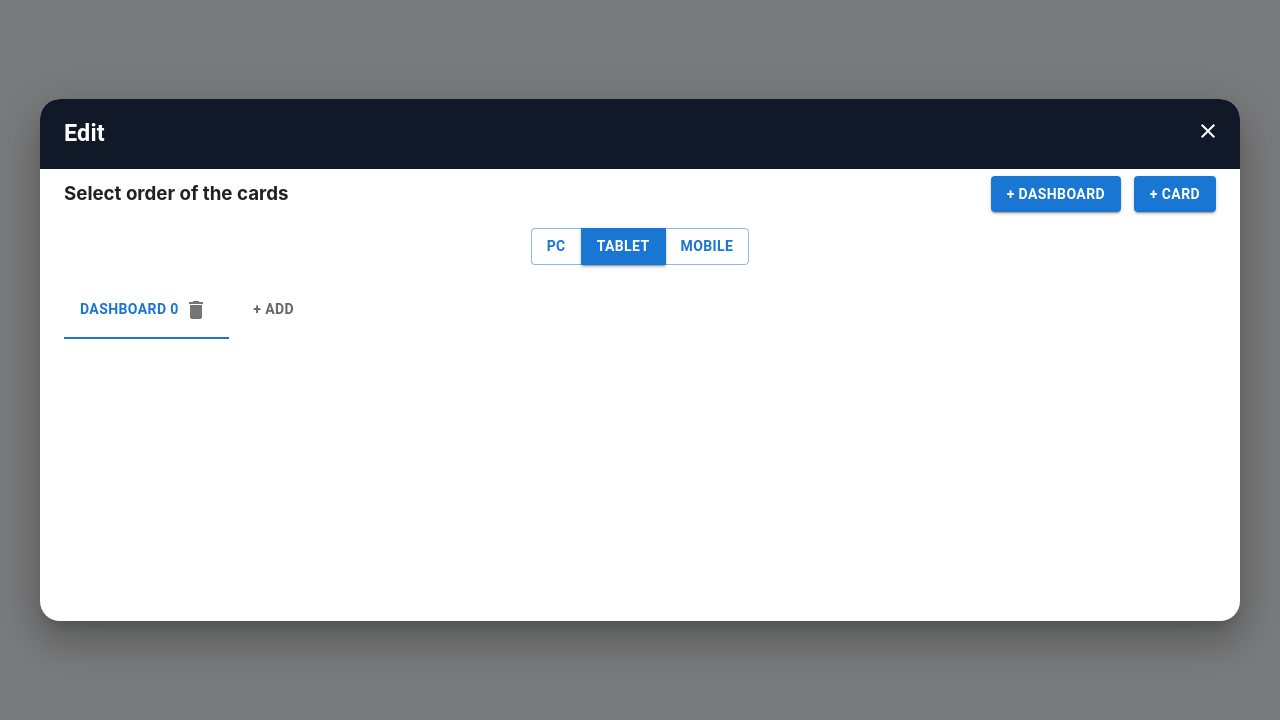
Test: EditDialog › should open the EditDialogAdd when "+ Card" button is clicked
Click the button "+ Card" at (1175,194), box [1134,176,1216,212]
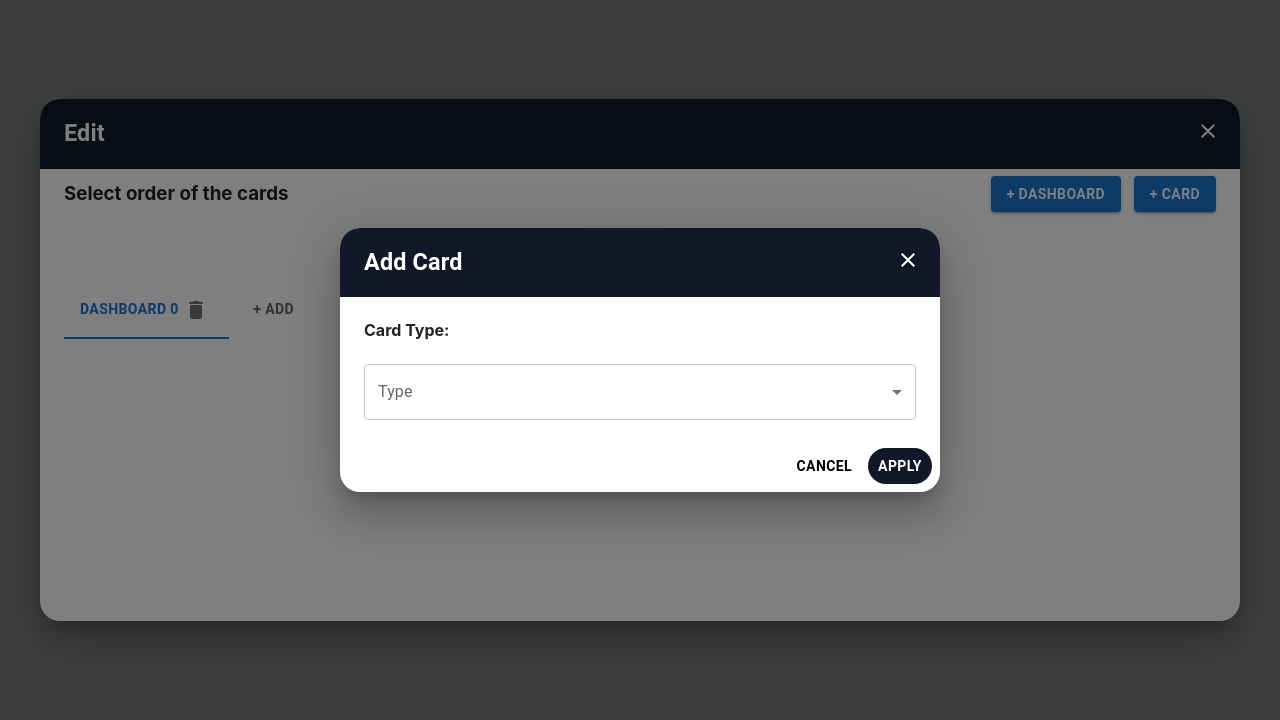
Now the heading "Add Card" is shown, box [364,248,462,276]
